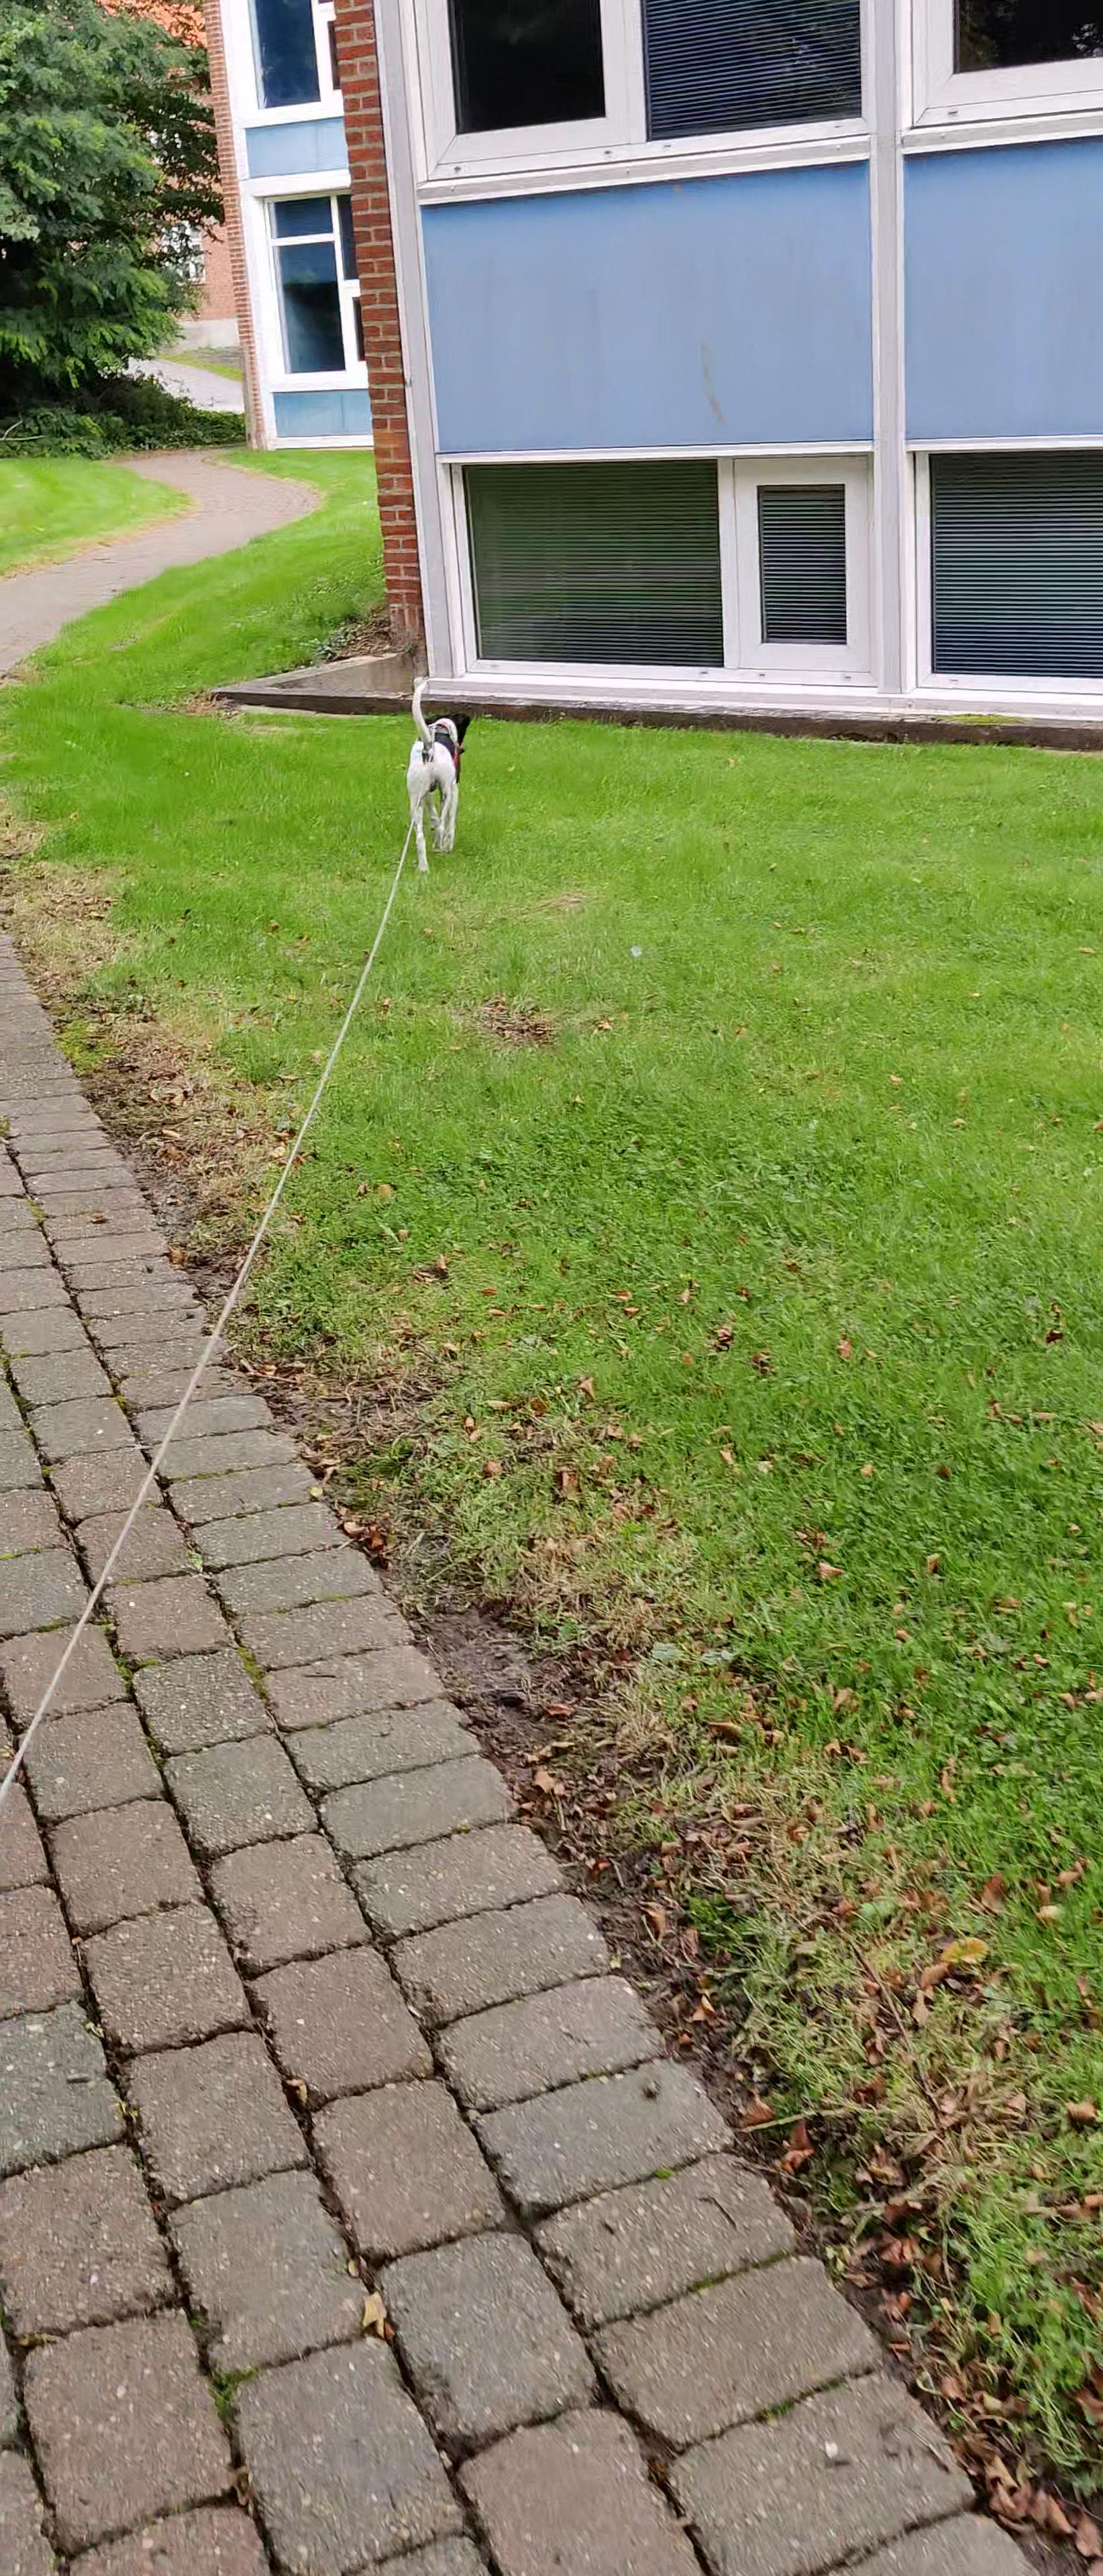Dog: (398, 672, 473, 879)
